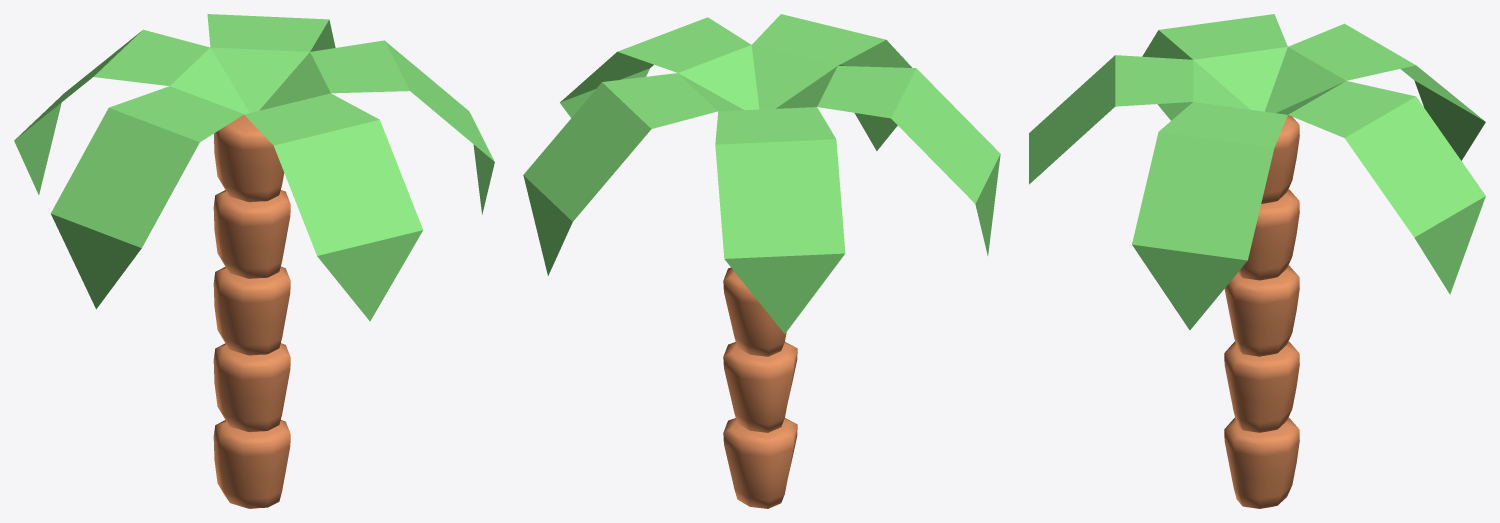
The model's file is PalmTree.glb.
The picture shows the model from 3 angles, left to right: view 1: azimuth 30°, elevation 25°; view 2: azimuth 150°, elevation 25°; view 3: azimuth 270°, elevation 25°; orthographic projection.
Visible parts, largest first — view 1: Cube; view 2: Cube; view 3: Cube.
Part boxes in pixels (box(x1,y1,x2,y2)): Cube: box(14, 14, 494, 508); Cube: box(523, 14, 1000, 508); Cube: box(1029, 14, 1485, 508).
Size of the model in its own units: 11.15 by 10.76 by 10.6.
